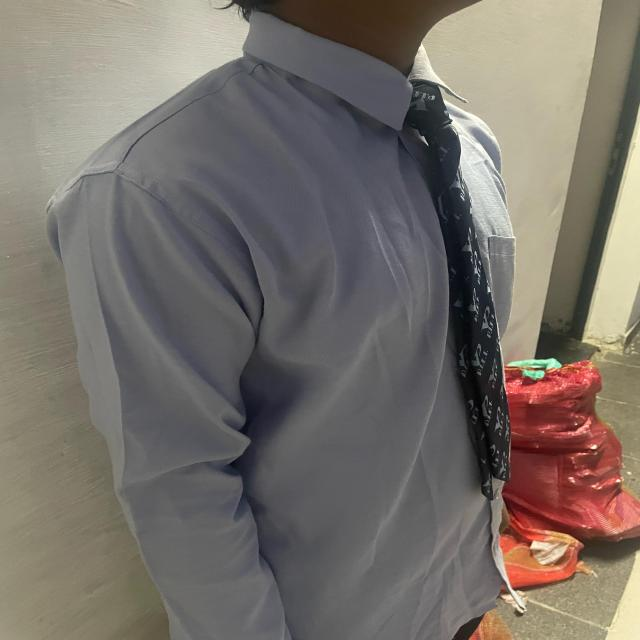Tie: (402, 78, 513, 500)
uniform: (44, 11, 517, 638)
